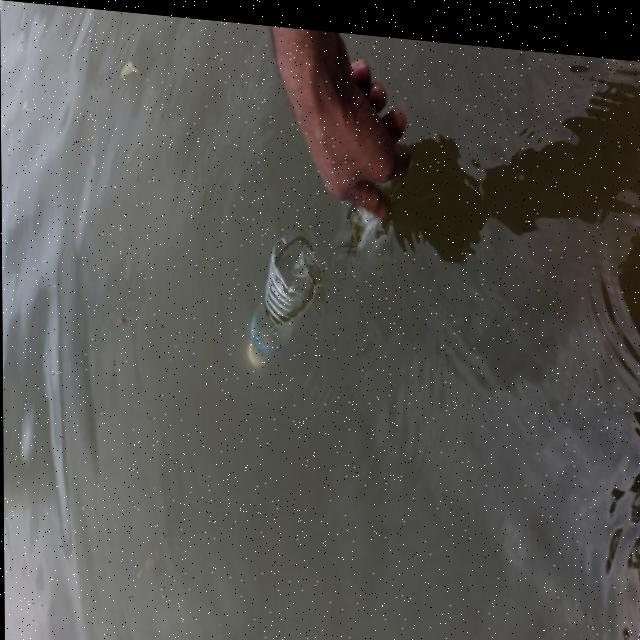waterbottle: (228, 210, 321, 369)
